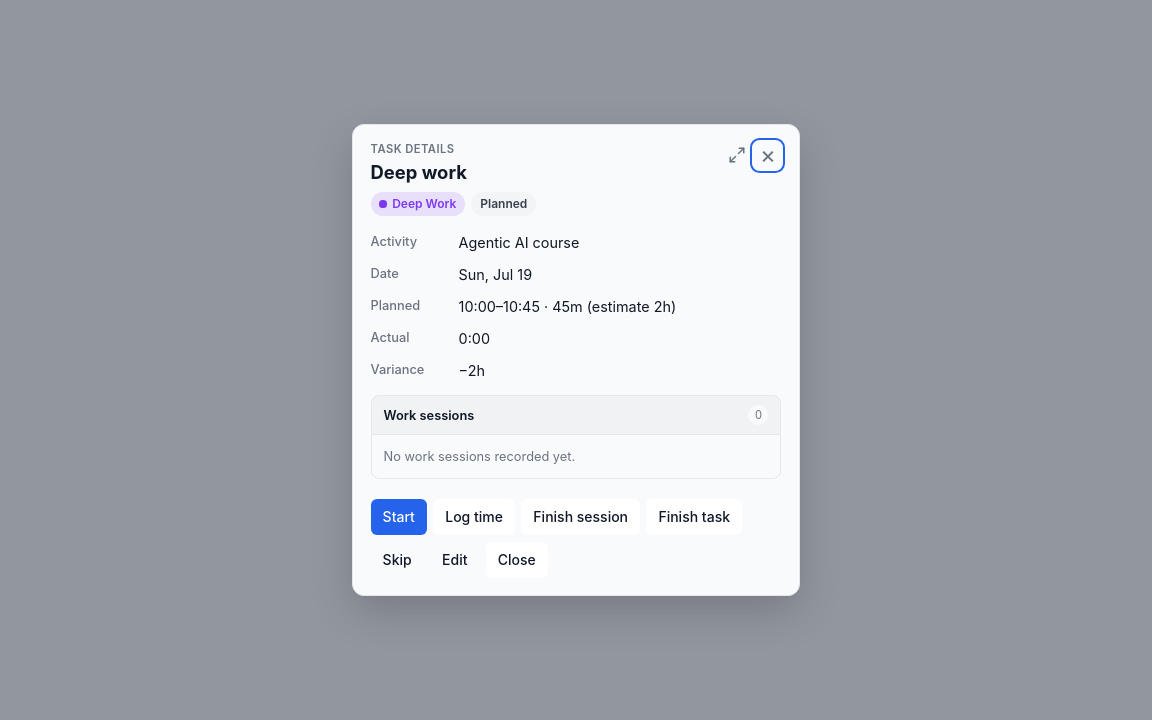
TaskDetailModal focus mode › calculates remaining time from the scheduled block window
Step 1. Click the button named "Expand to full screen" → [737, 155], box [723, 141, 752, 170]
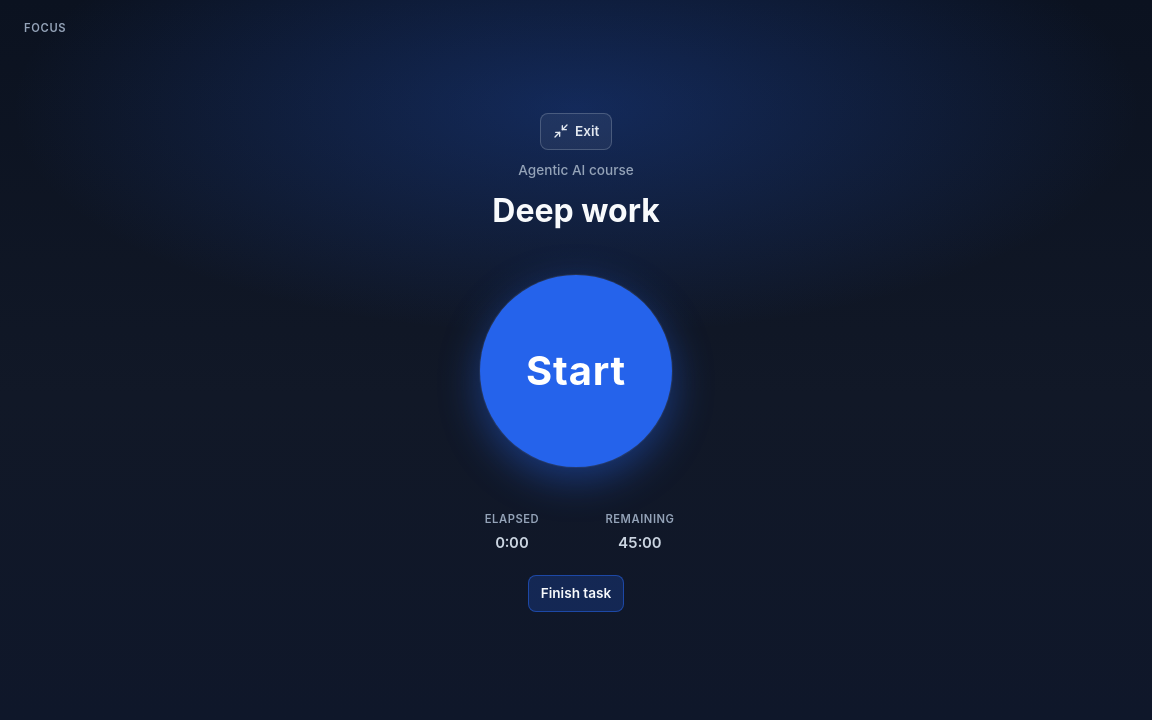
Expected: the text "45:00" is shown, [618, 533, 662, 552]
